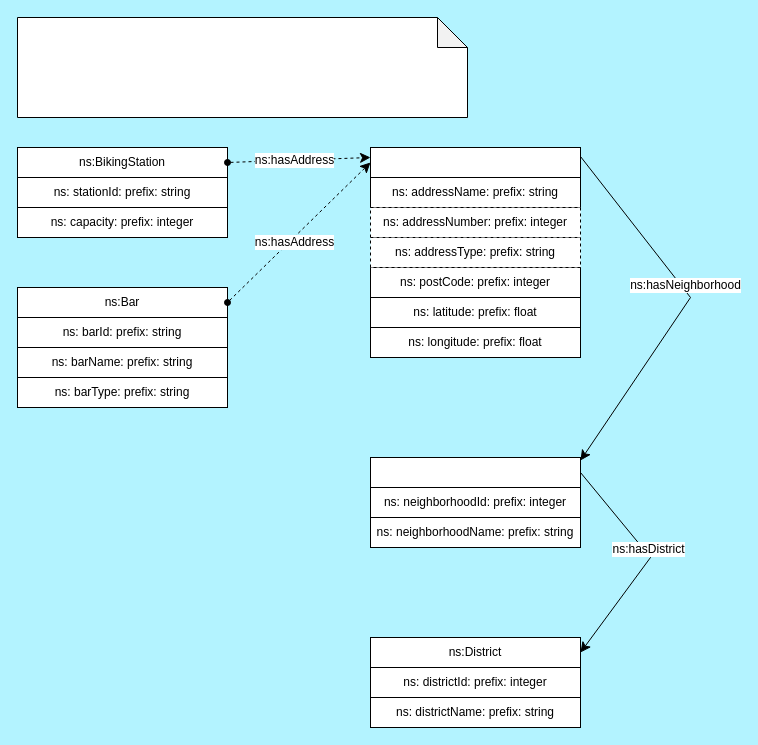
This 758x745 diagram has some shape labels left out. Each missing label, with the centre of its shape:
ns: http://www.barnabikes.org/ODKG/handsOn/group10/: the point at 242,67
ns:Neighborhood: the point at 475,472
ns:StreetAddress: the point at 475,162
